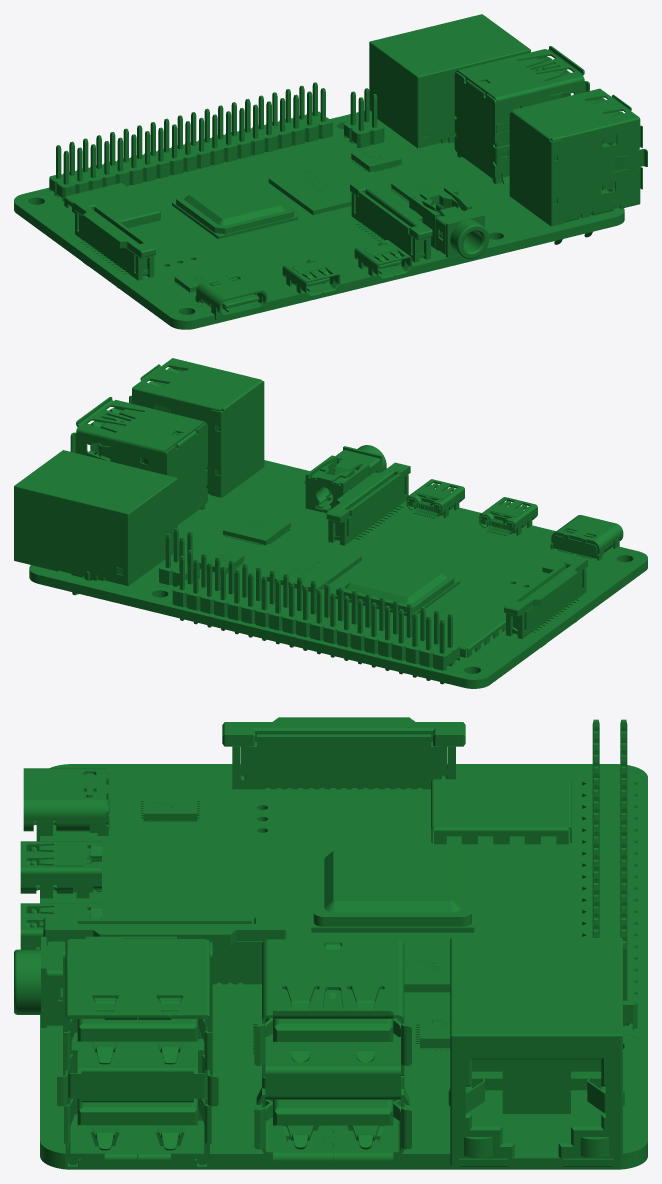
File: raspberry_pi4.glb
3 views of the same model, one above another, from view 1: azimuth 30°, elevation 25°; view 2: azimuth 150°, elevation 25°; view 3: azimuth 270°, elevation 25° (orthographic). The views are drawn at different scales.
Visible parts, largest first — view 1: pi4; view 2: pi4; view 3: pi4.
Part boxes in pixels (box(x1,y1,x2,y2)): pi4: box(14, 14, 647, 329); pi4: box(14, 358, 647, 688); pi4: box(14, 717, 647, 1169).
Size of the model in its own units: 88.99 by 19.9 by 58.4.
